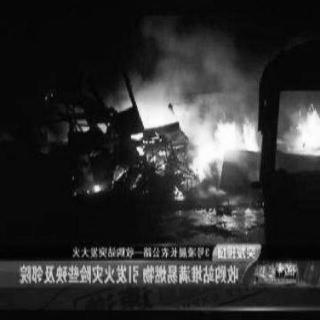Fire: (113, 94, 259, 188), (287, 96, 319, 156)
